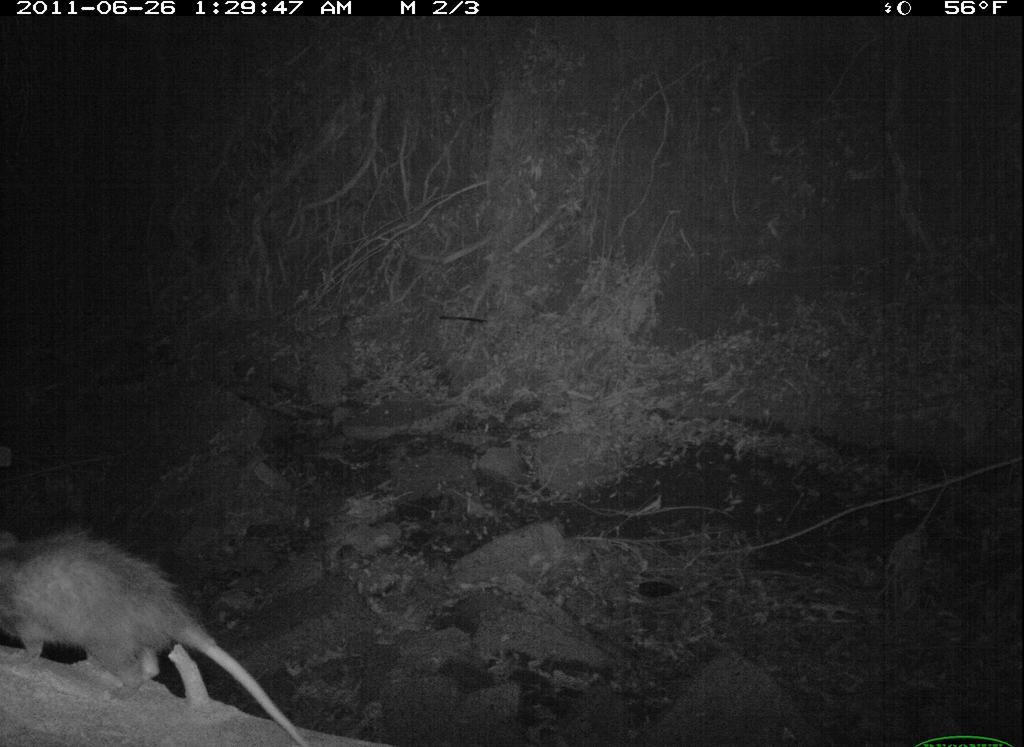opossum: (4, 490, 314, 747)
